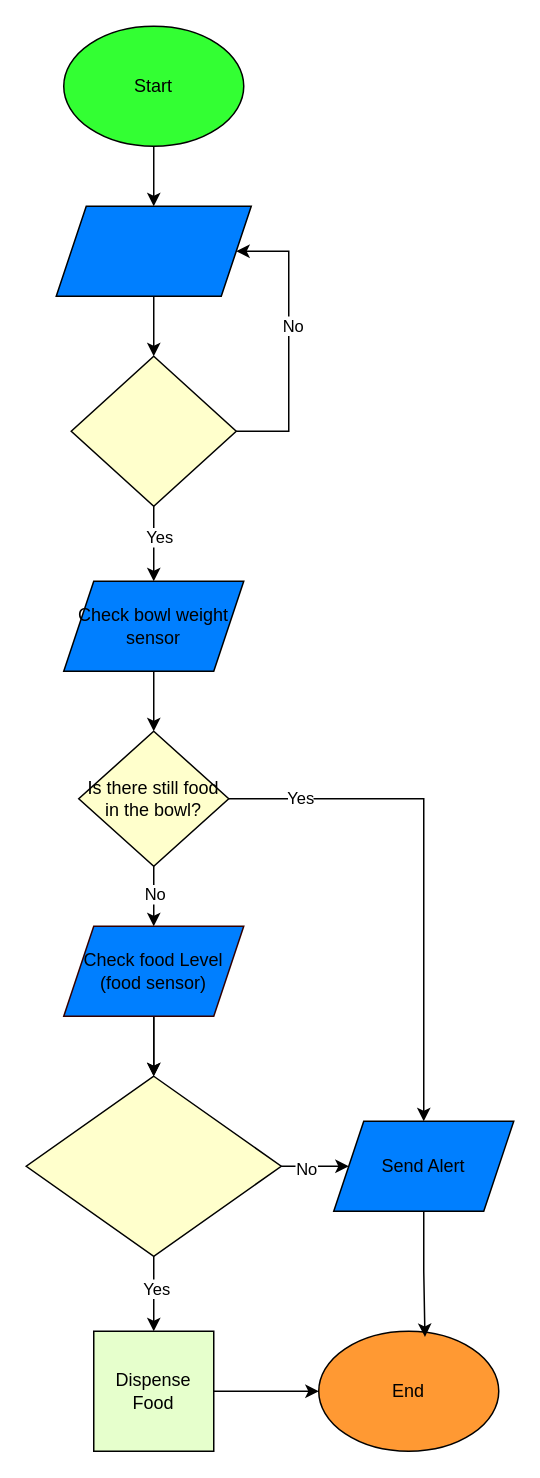
This 540x1478 diagram has some shape labels left out. The centre of each missing label's shape, as x and y in pixels:
"Check Time (clock)" goes at [153,250].
"Is Food Available in the dispenser" goes at [153,1165].
"Is it feeding time (8am or 6pm)" goes at [153,430].
